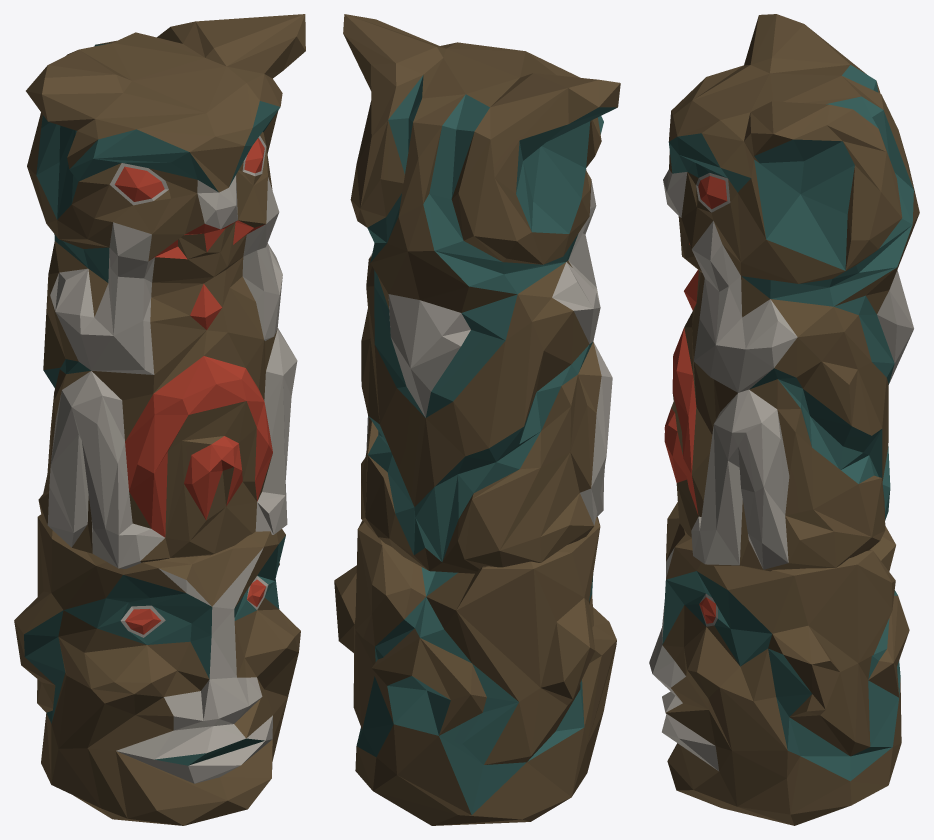
The model's file is MidTotem.fbx.
3 renders of one model, left to right at view 1: azimuth 30°, elevation 25°; view 2: azimuth 150°, elevation 25°; view 3: azimuth 270°, elevation 25°, orthographic. The views are drawn at different scales.
Parts seen in each view (by area): view 1: MidTotem; view 2: MidTotem; view 3: MidTotem.
Boxes of the visible parts, <box> form: MidTotem: <box>14,14,305,825</box>; MidTotem: <box>334,14,620,825</box>; MidTotem: <box>649,14,919,825</box>.
Bounding box in the file's own units: 63.58 × 168 × 56.97.
